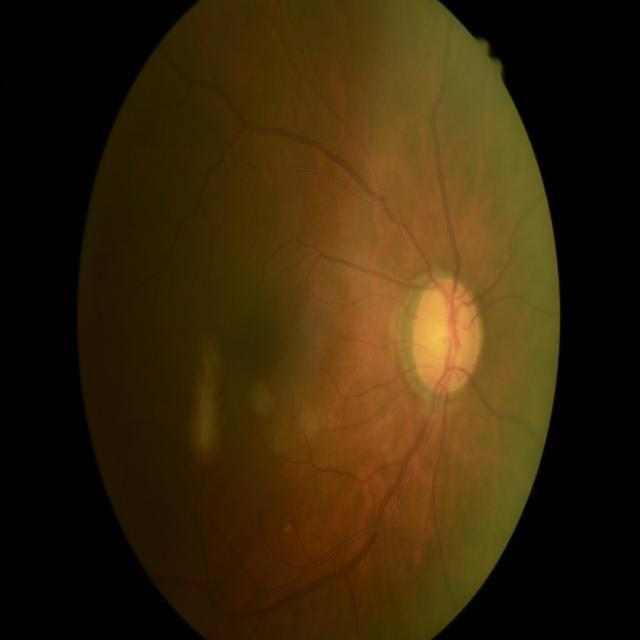cup: (418, 288, 466, 384)
disk: (412, 272, 482, 396)
